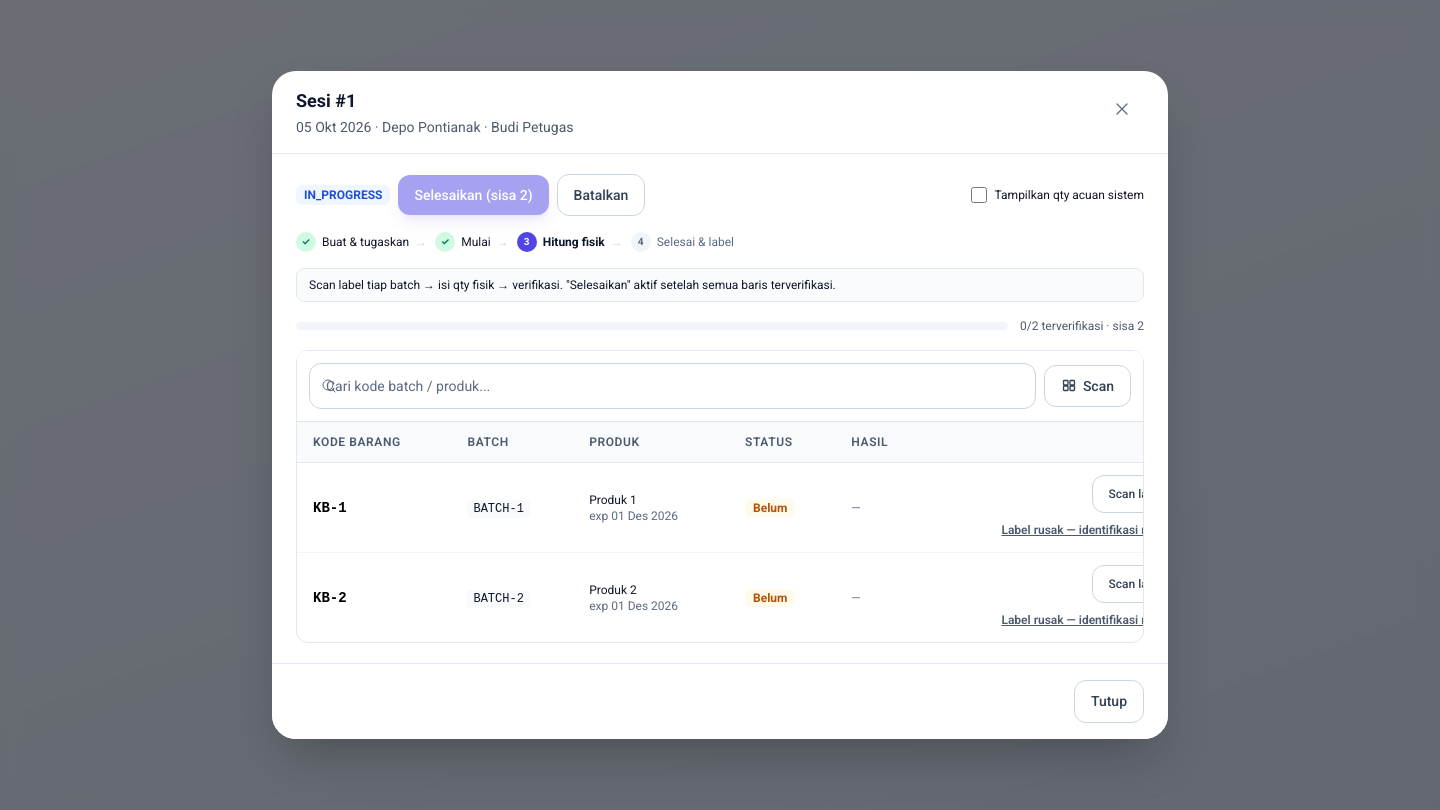
SessionDetailModal — UI sesi opname sesuai praktik WMS › identifikasi manual membuka form; acuan sistem hanya tampil saat toggle dinyalakan (pola Show Expected Quantity)
Click the 1st button "Label rusak — identifikasi manual" at (1091, 530), box x1=1001 y1=522 x2=1181 y2=538
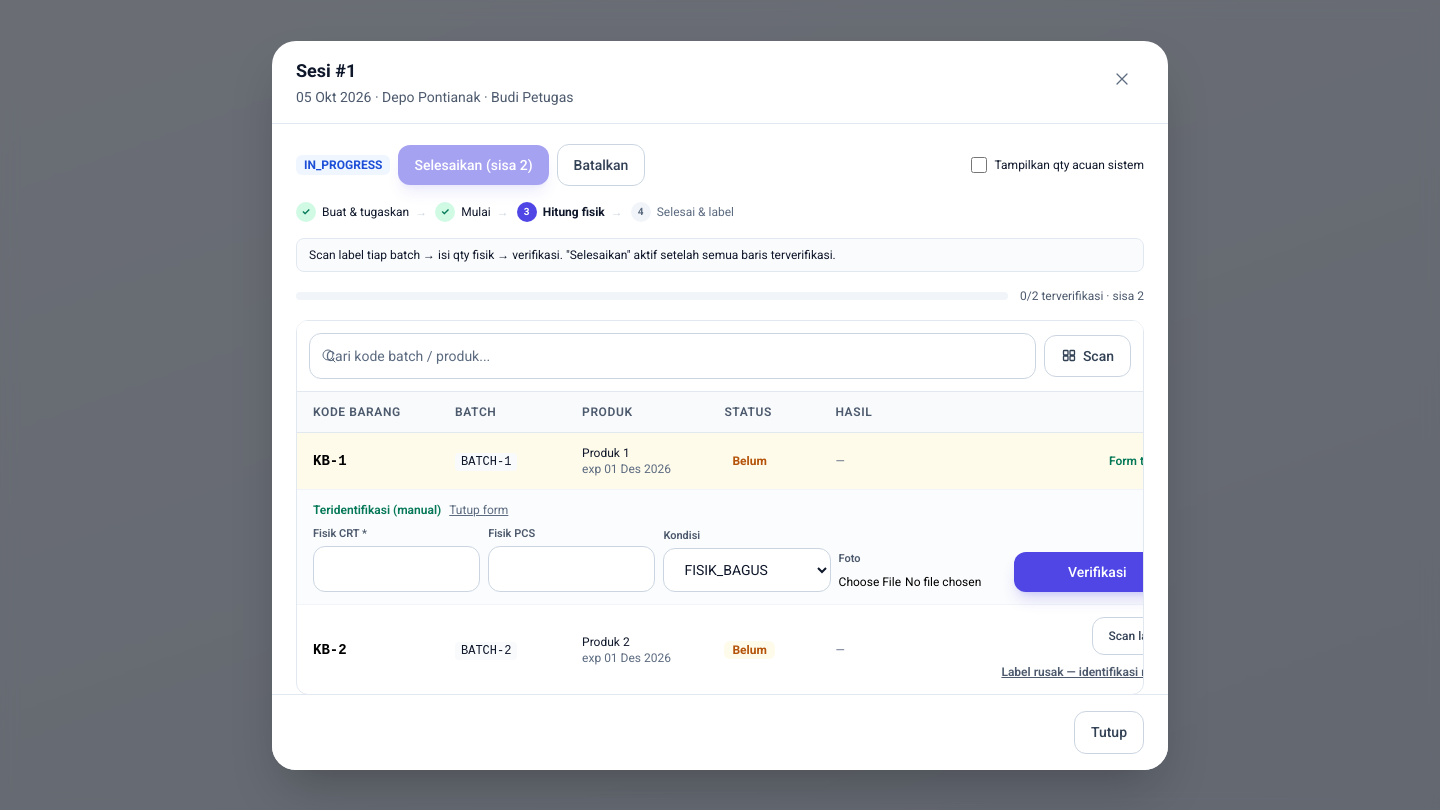
expect the text "Acuan sistem:" is not shown: met
expect the number field labelled "Fisik CRT *" is shown: met, box x1=313 y1=546 x2=480 y2=592
Click the checkbox labelled "Tampilkan qty acuan sistem" at (979, 164), box x1=971 y1=156 x2=987 y2=172
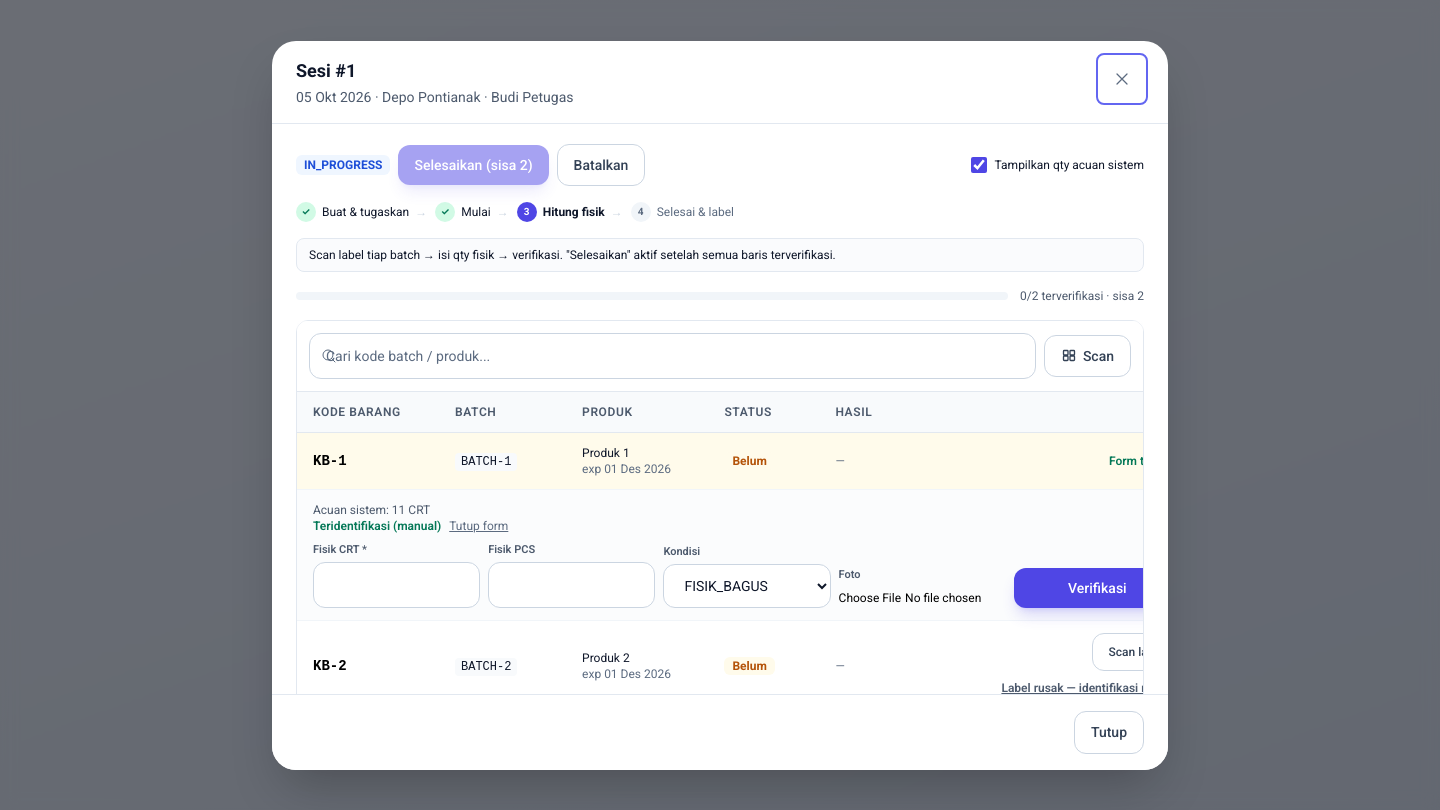
expect the text "Acuan sistem: 11 CRT" is shown: met, box x1=313 y1=502 x2=430 y2=516
